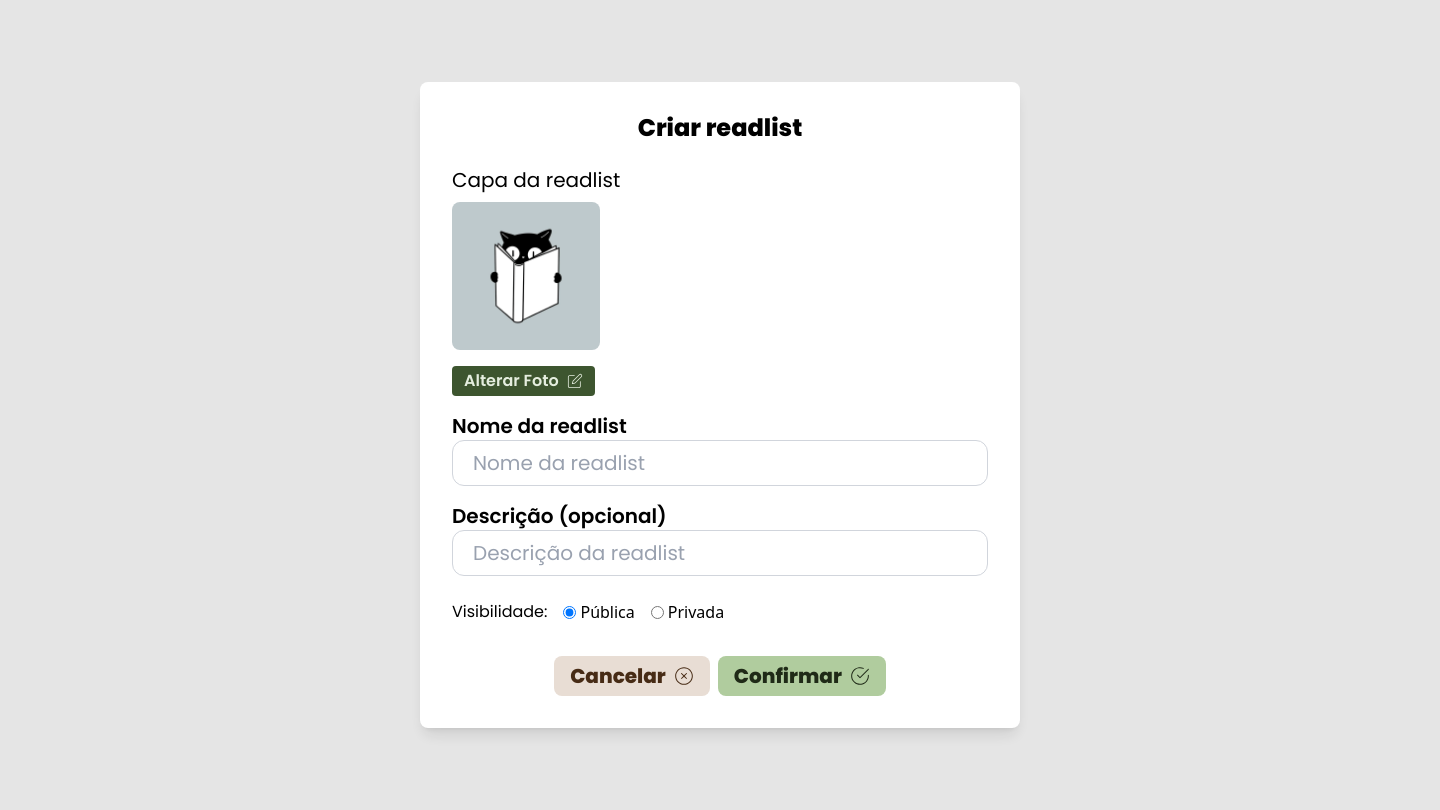
CreateReadlist component › shows validation error when submitting empty title
Click the button "Confirmar".
click(802, 676)  # box [718,656,886,696]
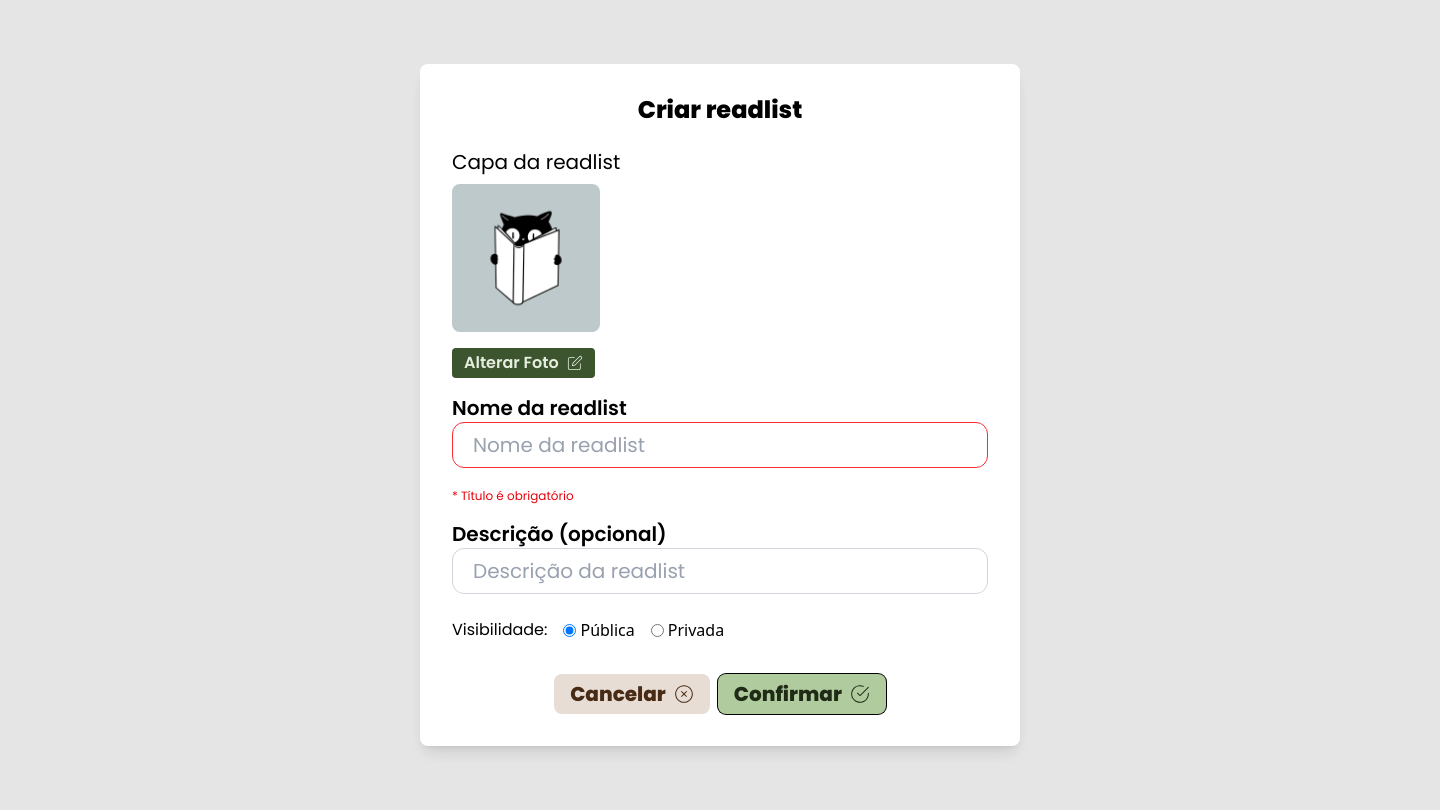
Expected: the message shows "Título", [452,487,574,504]
